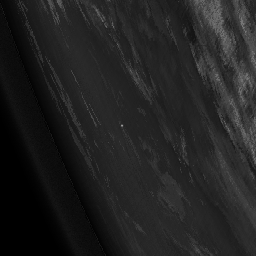Target: (119, 124, 124, 128)
